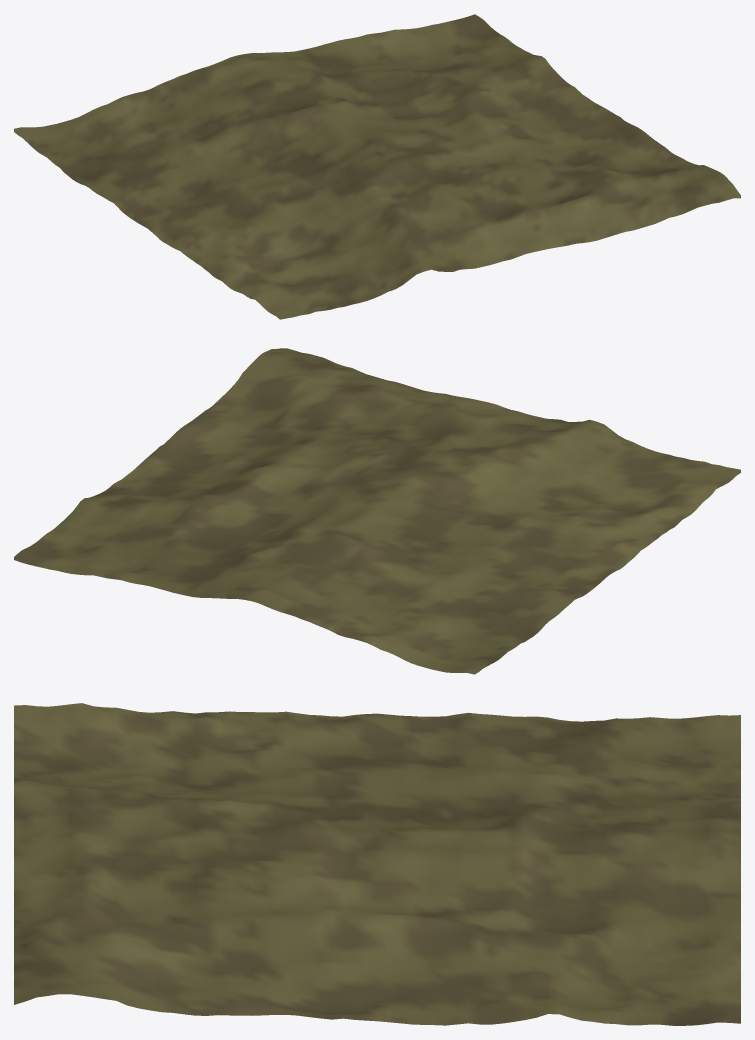
File: land_f_03_10.glb
3 views of the same model, one above another, from view 1: azimuth 30°, elevation 25°; view 2: azimuth 150°, elevation 25°; view 3: azimuth 270°, elevation 25° (orthographic). The views are drawn at different scales.
Visible parts, largest first — view 1: land_f_03_10; view 2: land_f_03_10; view 3: land_f_03_10.
Boxes of the visible parts, x1,y1,x2,y2 form: land_f_03_10: (14,14,740,319); land_f_03_10: (14,348,740,674); land_f_03_10: (14,703,740,1025).
Size of the model in its own units: 3840 by 299 by 3840.
